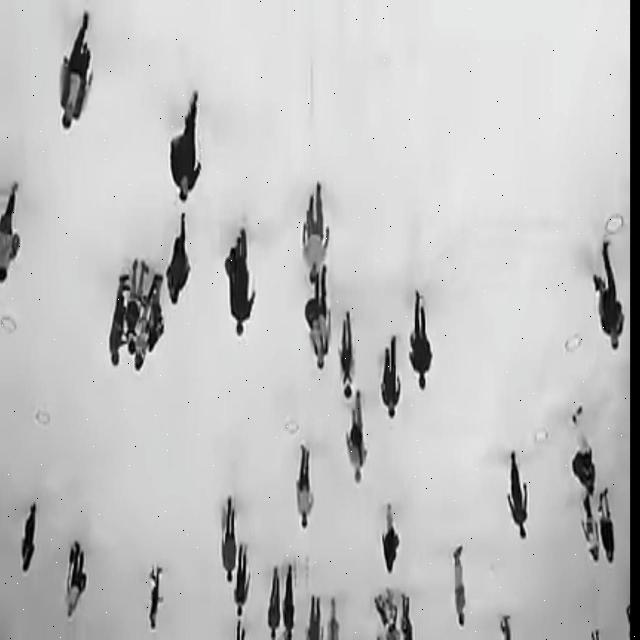humans: (58, 11, 94, 134), (173, 87, 207, 201), (594, 245, 624, 353), (300, 182, 330, 287), (166, 206, 196, 307), (230, 224, 256, 338), (310, 273, 335, 372), (409, 290, 433, 392), (0, 180, 22, 290), (344, 389, 368, 488), (379, 323, 403, 422), (124, 248, 146, 356), (17, 498, 44, 578), (507, 450, 529, 545), (144, 268, 167, 358), (574, 405, 596, 494), (64, 544, 90, 618), (108, 264, 126, 370), (220, 482, 238, 586), (339, 308, 359, 400), (295, 442, 315, 532), (380, 503, 402, 578), (232, 542, 252, 618), (145, 558, 165, 630), (264, 565, 283, 640), (454, 540, 468, 632), (582, 495, 600, 564), (602, 486, 616, 564), (282, 565, 296, 640), (132, 329, 152, 372)
